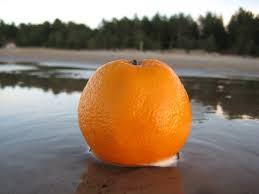orange: (73, 51, 198, 169)
